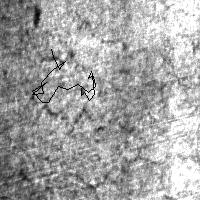crazing: (16, 79, 143, 193), (31, 35, 160, 88), (32, 49, 95, 102)
